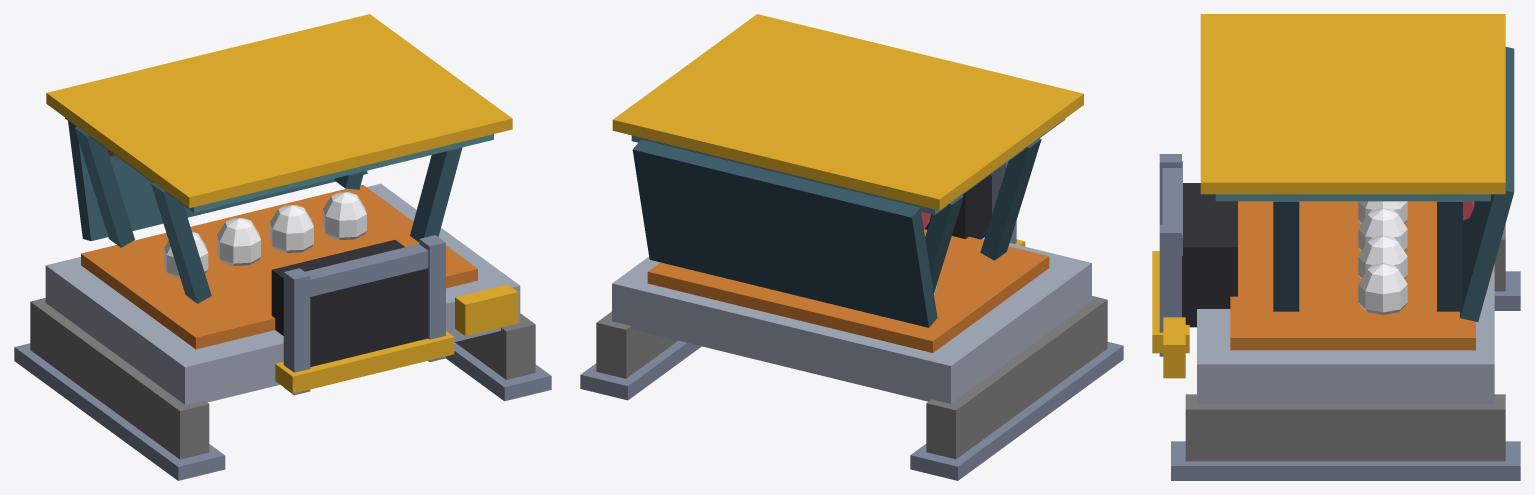
Rendered from hatchery.glb.
3 views of the same model, side by side, from view 1: azimuth 30°, elevation 25°; view 2: azimuth 150°, elevation 25°; view 3: azimuth 270°, elevation 25° (orthographic). The views are drawn at different scales.
Parts seen in each view (by area): view 1: hatchery; view 2: hatchery; view 3: hatchery.
Part boxes in pixels (left/top/right/bottom): hatchery: left=14, top=14, right=551, bottom=480; hatchery: left=580, top=14, right=1123, bottom=480; hatchery: left=1152, top=14, right=1520, bottom=480.
Bounding box in the file's own units: 1.25 × 0.855 × 1.
